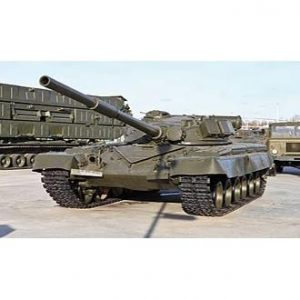Battle Tank: (38, 109, 279, 216)
